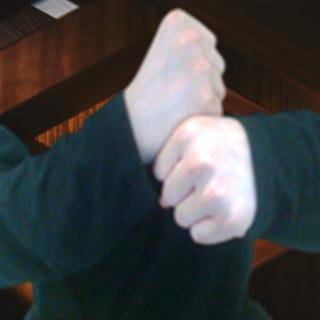CAREFUL: (119, 4, 258, 255)
